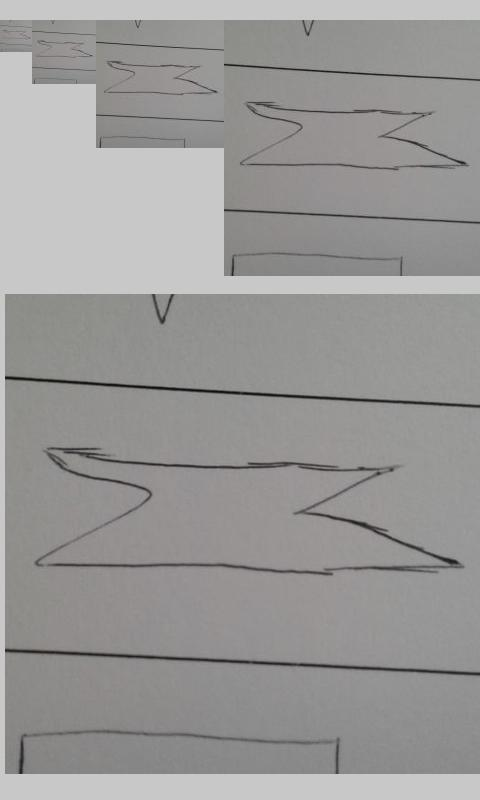edit_text: (31, 446, 464, 578), (239, 100, 466, 171), (103, 60, 218, 97), (35, 40, 91, 58), (2, 29, 30, 40)
